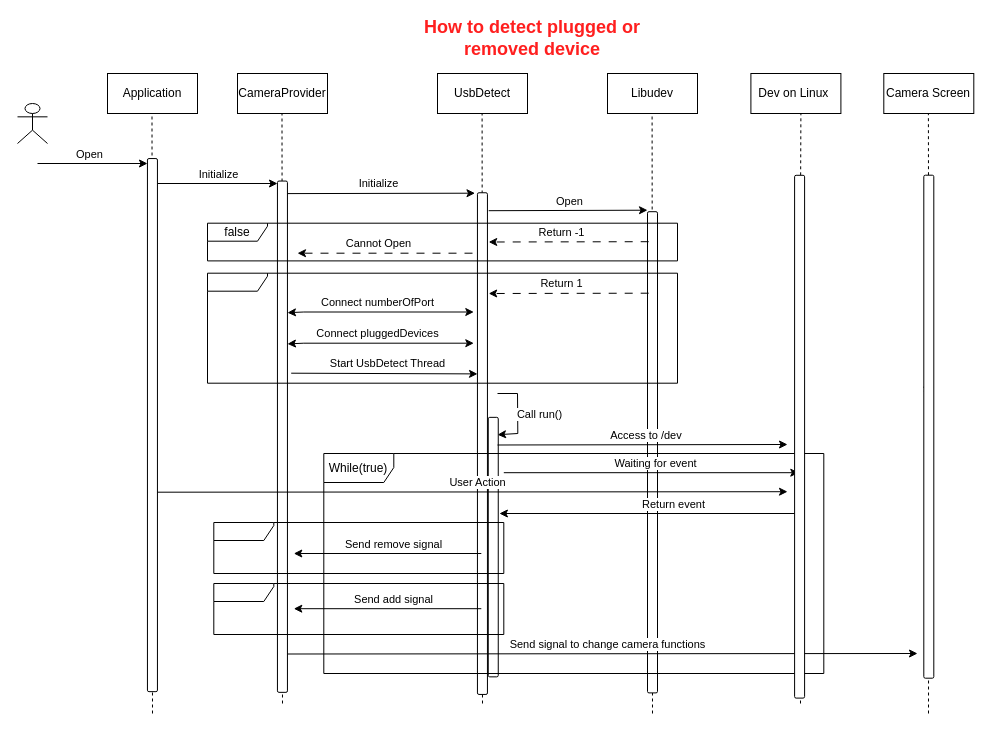
Image size: 992x732. Some labels were removed from this diagram. Here are the shapes that lost their labels. From the top down, the box of each, then its label:
(16, 102, 48, 144): User
(206, 272, 678, 383): true
(213, 522, 504, 574): Remove
(213, 582, 504, 634): Plug-in
